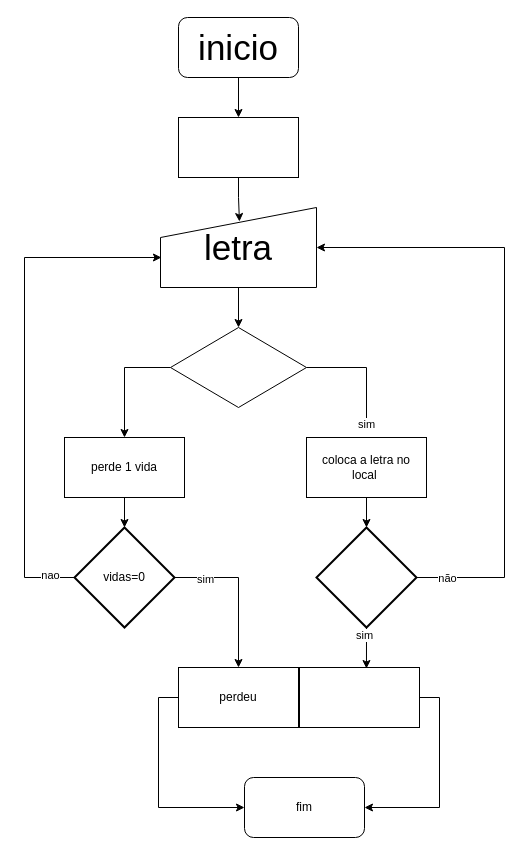
The diagram is 530 pixels wide and 855 high, and some of its shapes have lost their labels. Each missing label, with the centre of its shape:
a palavra esta completa: point (366, 577)
defina uma palavra aleatoria: point (238, 147)
esta letra esta na palavra: point (238, 367)
ganhou: point (359, 697)
